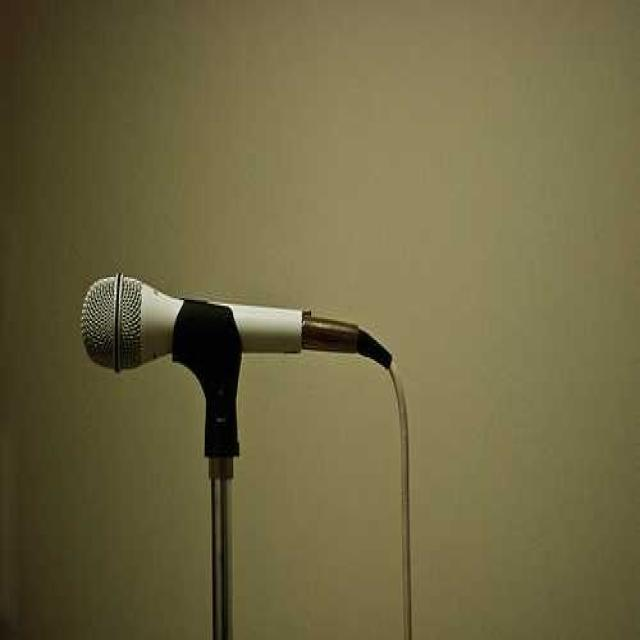microphone: (88, 273, 384, 380)
